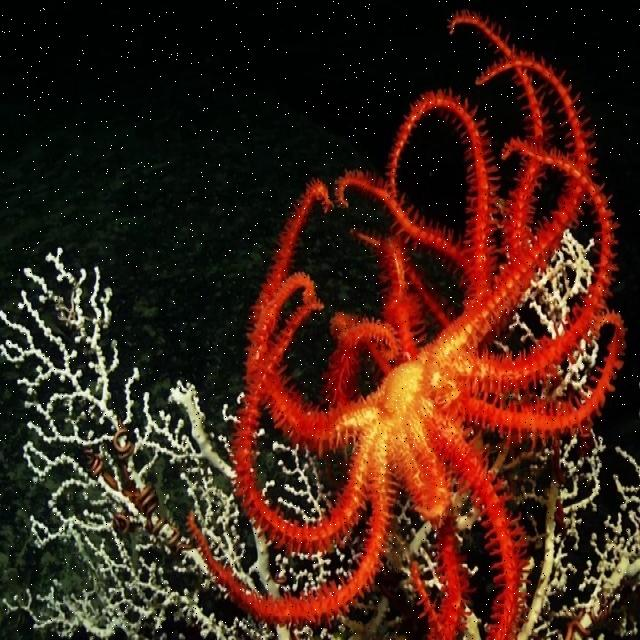reefs: (184, 8, 627, 639), (0, 248, 441, 639), (474, 434, 639, 639), (508, 228, 595, 344), (267, 440, 333, 522), (537, 332, 599, 403)
